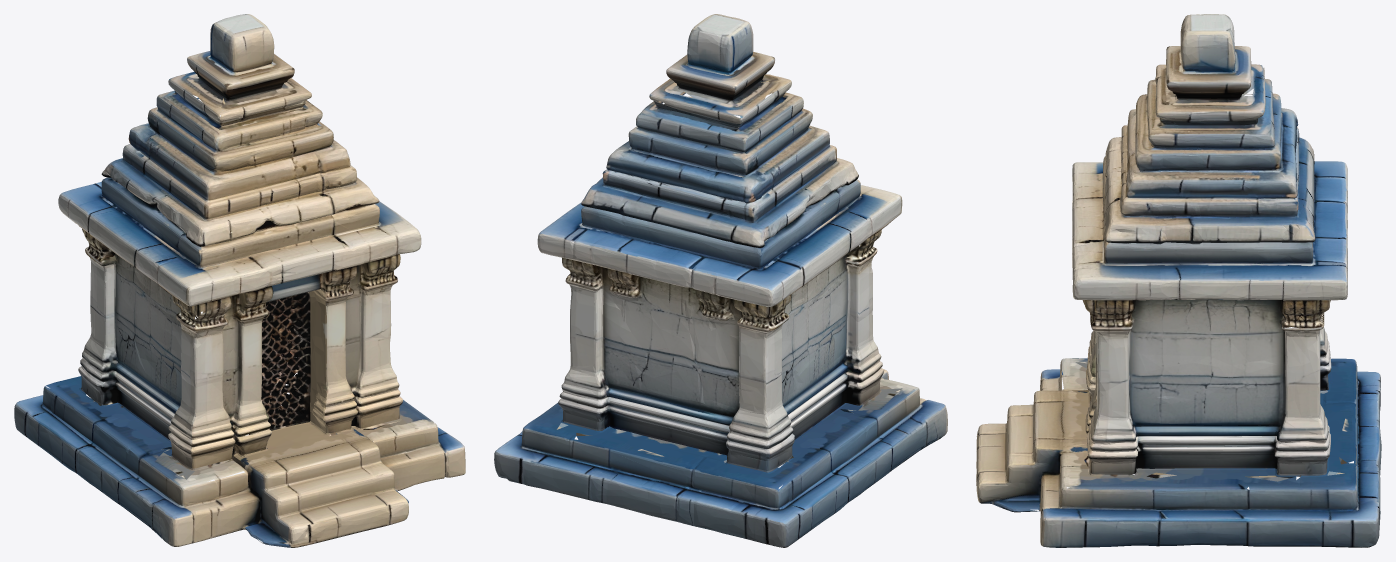
Rendered from kadamba-carved-stone-window-screen-optimized (1).glb.
The picture shows the model from 3 angles, left to right: view 1: azimuth 30°, elevation 25°; view 2: azimuth 150°, elevation 25°; view 3: azimuth 270°, elevation 25°; orthographic projection. The views are drawn at different scales.
Parts seen in each view (by area): view 1: 8ae49f31-df0c-4cc2-b9a6-3a82073b31f1_texturing.obj; view 2: 8ae49f31-df0c-4cc2-b9a6-3a82073b31f1_texturing.obj; view 3: 8ae49f31-df0c-4cc2-b9a6-3a82073b31f1_texturing.obj.
Part boxes in pixels (left/top/right/bottom): 8ae49f31-df0c-4cc2-b9a6-3a82073b31f1_texturing.obj: left=14, top=14, right=465, bottom=547; 8ae49f31-df0c-4cc2-b9a6-3a82073b31f1_texturing.obj: left=494, top=14, right=947, bottom=547; 8ae49f31-df0c-4cc2-b9a6-3a82073b31f1_texturing.obj: left=976, top=14, right=1381, bottom=547.
Bounding box in the file's own units: 1.44 × 2 × 1.62.
Materials: 1 (1 with a texture image).
